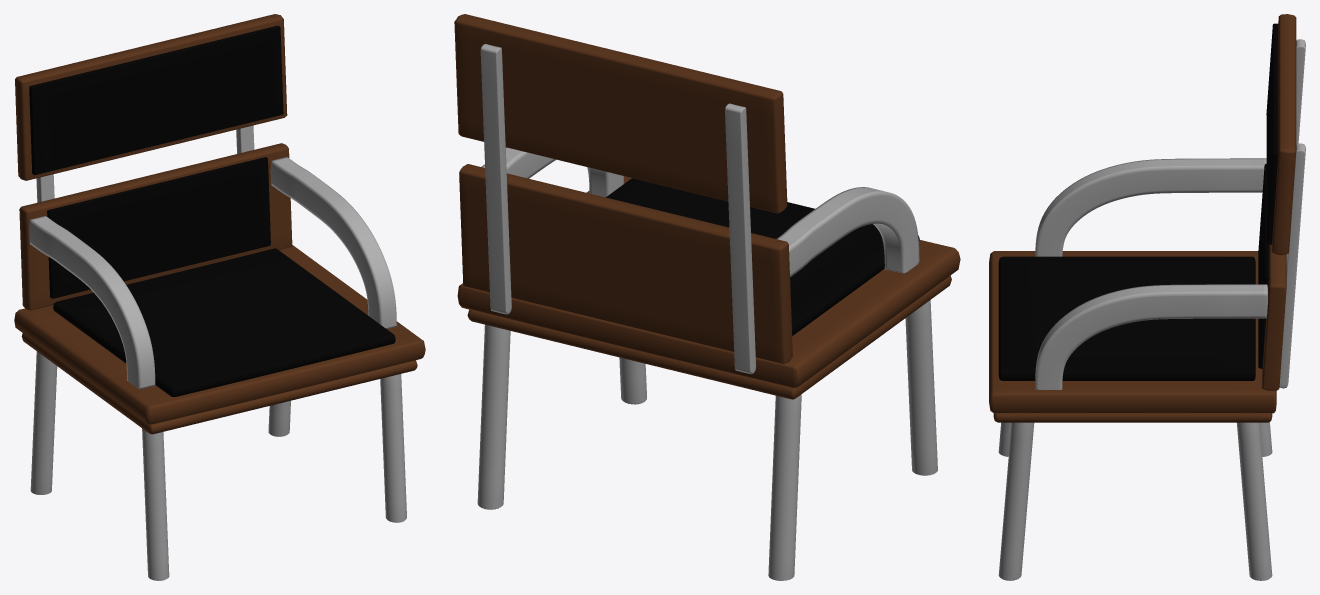
File: chair_simur.fbx
3 renders of one model, left to right at view 1: azimuth 30°, elevation 25°; view 2: azimuth 150°, elevation 25°; view 3: azimuth 270°, elevation 25°, orthographic. The views are drawn at different scales.
Visible parts, largest first — view 1: curve3; view 2: curve3; view 3: curve3.
Part boxes in pixels (x1,y1,x2,y2): curve3: [14, 14, 425, 580]; curve3: [454, 14, 960, 580]; curve3: [989, 14, 1305, 580].
Size of the model in its own units: 97.45 by 135 by 89.44.
